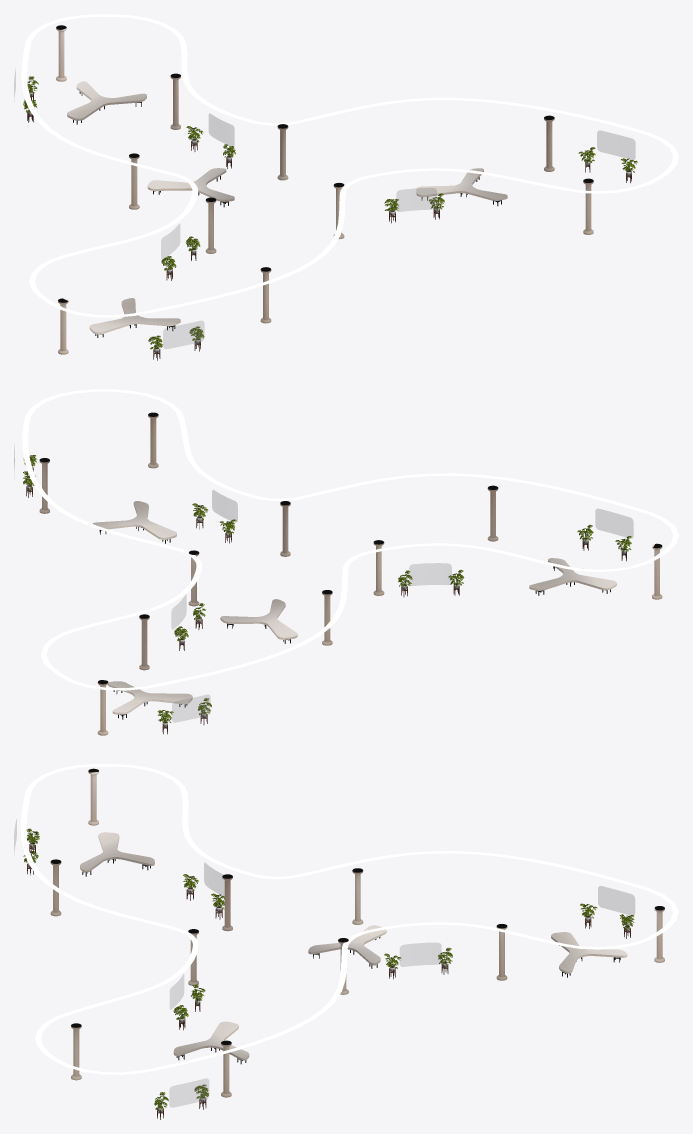
Rendered from assets.glb.
3 renders of one model, top to bottom at view 1: azimuth 30°, elevation 25°; view 2: azimuth 150°, elevation 25°; view 3: azimuth 270°, elevation 25°, orthographic.
Parts seen in each view (by area): view 1: Props, Emmision, polySurface4, Flower_pot; view 2: Props, Emmision, polySurface4, Flower_pot; view 3: Props, Emmision, polySurface4, Flower_pot.
Part boxes in pixels (x1,y1,x2,y2): Props: (56,25,593,354); Emmision: (21,14,678,317); polySurface4: (14,70,635,348); Flower_pot: (23,76,637,360); Props: (39,412,662,735); Emmision: (22,389,678,690); polySurface4: (14,447,633,722); Flower_pot: (23,455,631,734); Props: (50,768,664,1097); Emmision: (20,764,678,1074); polySurface4: (14,819,634,1107); Flower_pot: (23,828,634,1119).
Bounding box in the file's own units: 1.79 × 0.1406 × 1.62.
8 materials, 5 textured.
